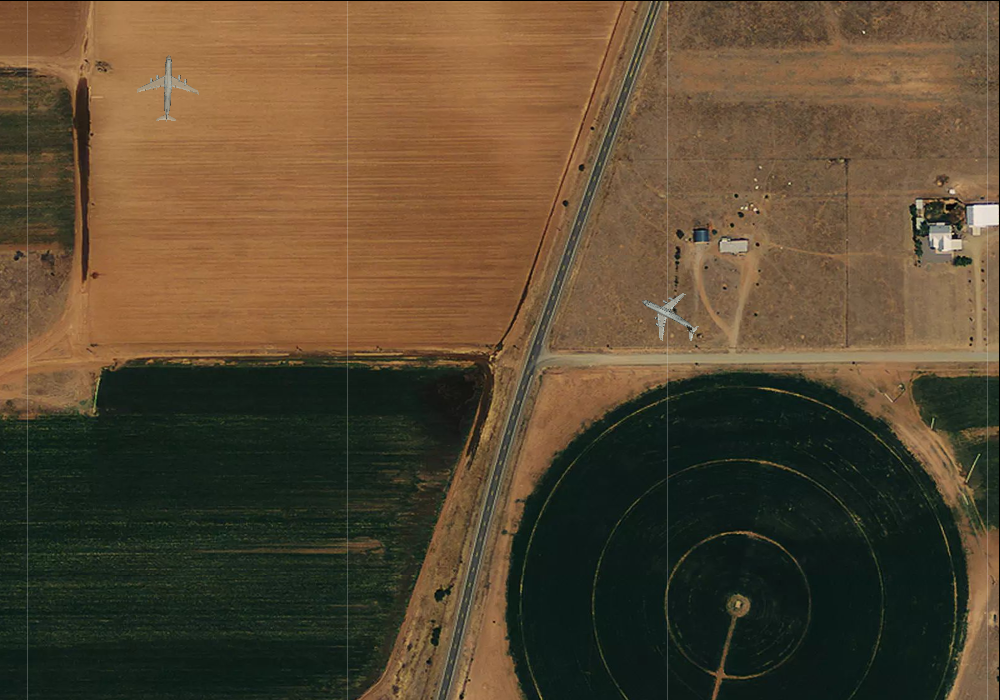plane: (627, 275, 711, 358), (134, 53, 199, 123)
